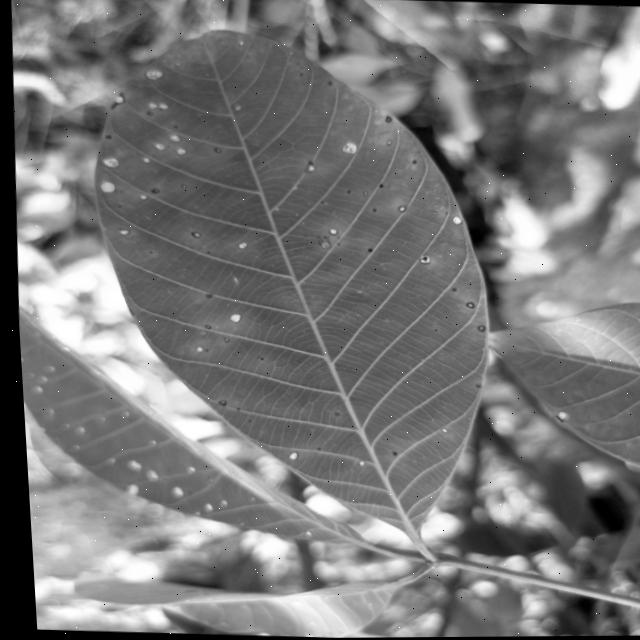Colletotrichum: (414, 255, 427, 265), (167, 134, 180, 143), (226, 314, 238, 323), (115, 228, 128, 236), (449, 216, 459, 225), (174, 148, 185, 156), (282, 451, 292, 459), (234, 242, 245, 249), (325, 229, 335, 236), (473, 325, 481, 333), (188, 231, 198, 237), (383, 116, 390, 124), (395, 207, 404, 213), (191, 346, 200, 352), (136, 195, 145, 201), (462, 302, 470, 308), (149, 189, 158, 194), (352, 461, 359, 467), (213, 400, 221, 405), (212, 149, 220, 153), (384, 141, 390, 145), (470, 384, 476, 388), (436, 429, 442, 433), (328, 413, 334, 417), (200, 325, 206, 329), (178, 185, 184, 189), (386, 452, 392, 456), (448, 288, 453, 292), (364, 248, 369, 252), (369, 209, 374, 213), (219, 338, 224, 342), (202, 294, 207, 298), (376, 184, 380, 188), (361, 191, 365, 195), (255, 358, 259, 360)
